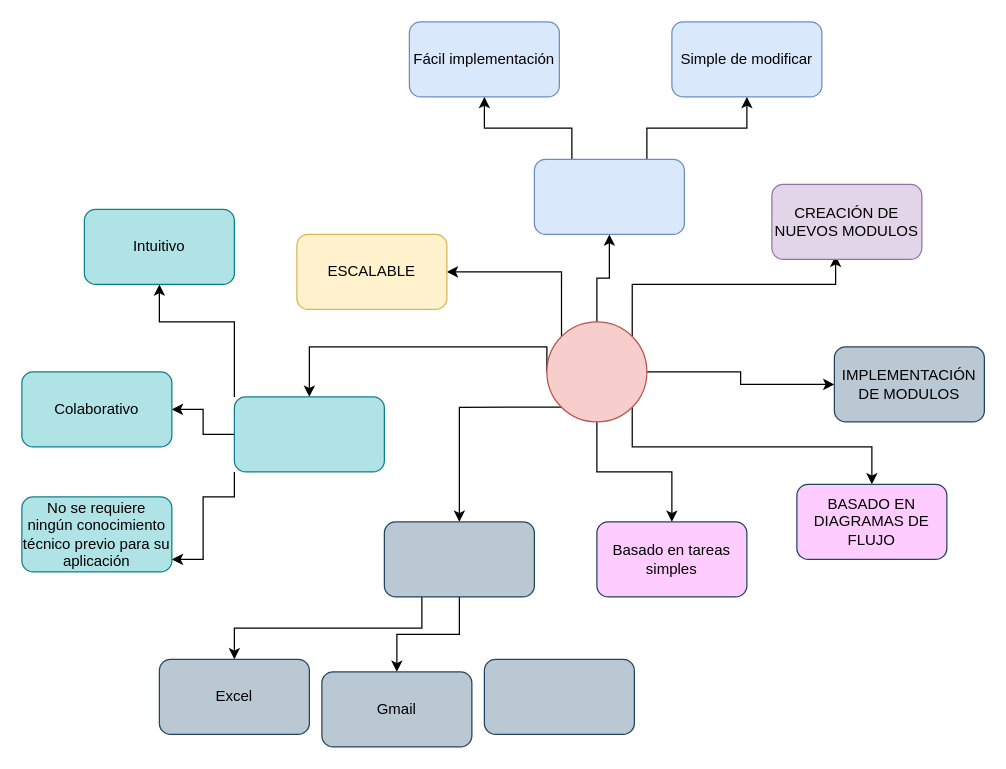
Image size: 1006x769. Some labels were removed from this diagram. The shapes that lost their labels are listed below. From the top down, each one's centre as x and y in pixels, then its label:
At point 608,196: "MODIFICABLE".
At point 596,371: "Software RPA".
At point 308,434: "CURVA DE APRENDIZAJE SIMPLE".
At point 458,559: "DISEÑO BASADO EN MODULOS".
At point 558,696: "Buscador".
